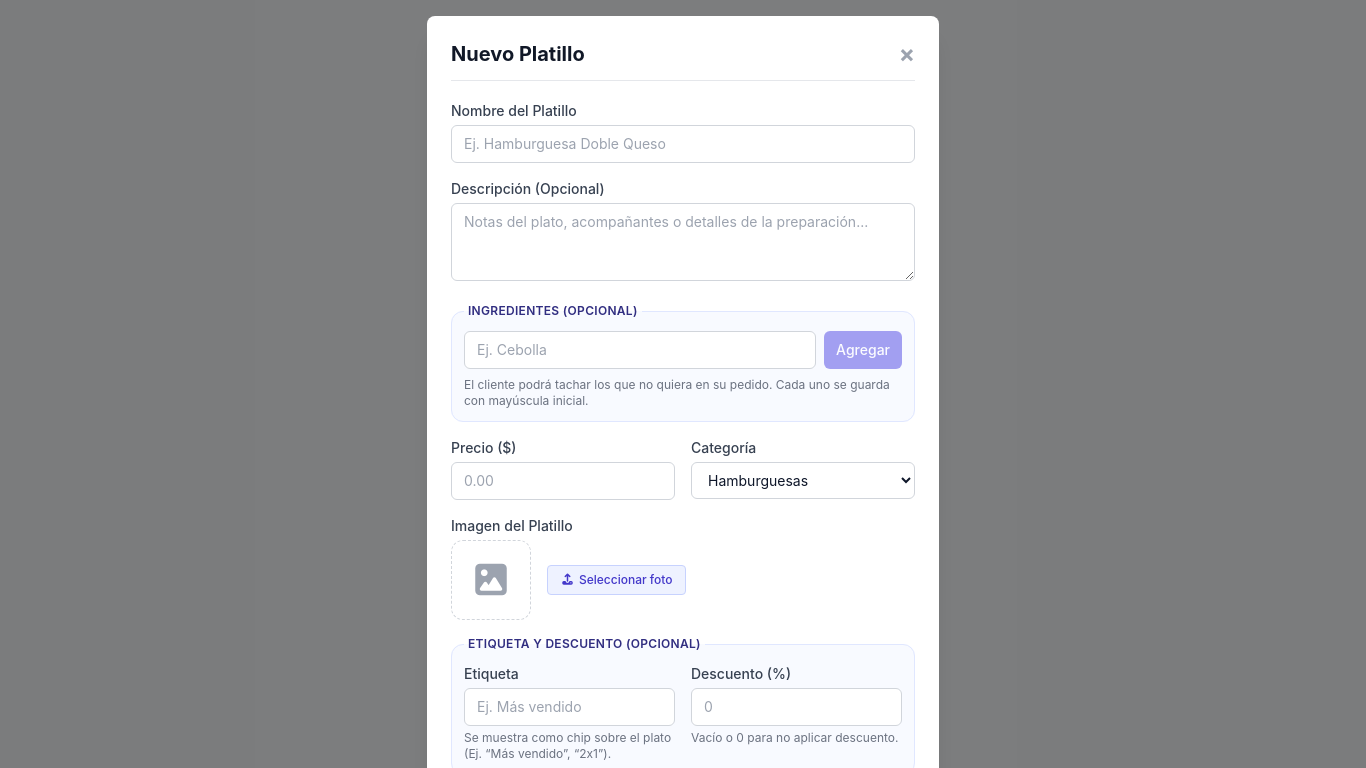
Test case: DishFormModal › rechaza un descuento fuera del rango permitido
The image size is (1366, 768).
In the field labelled "Nombre del Platillo": point(683, 144) left=451, top=125, right=915, bottom=163, type "Combo Parejo"
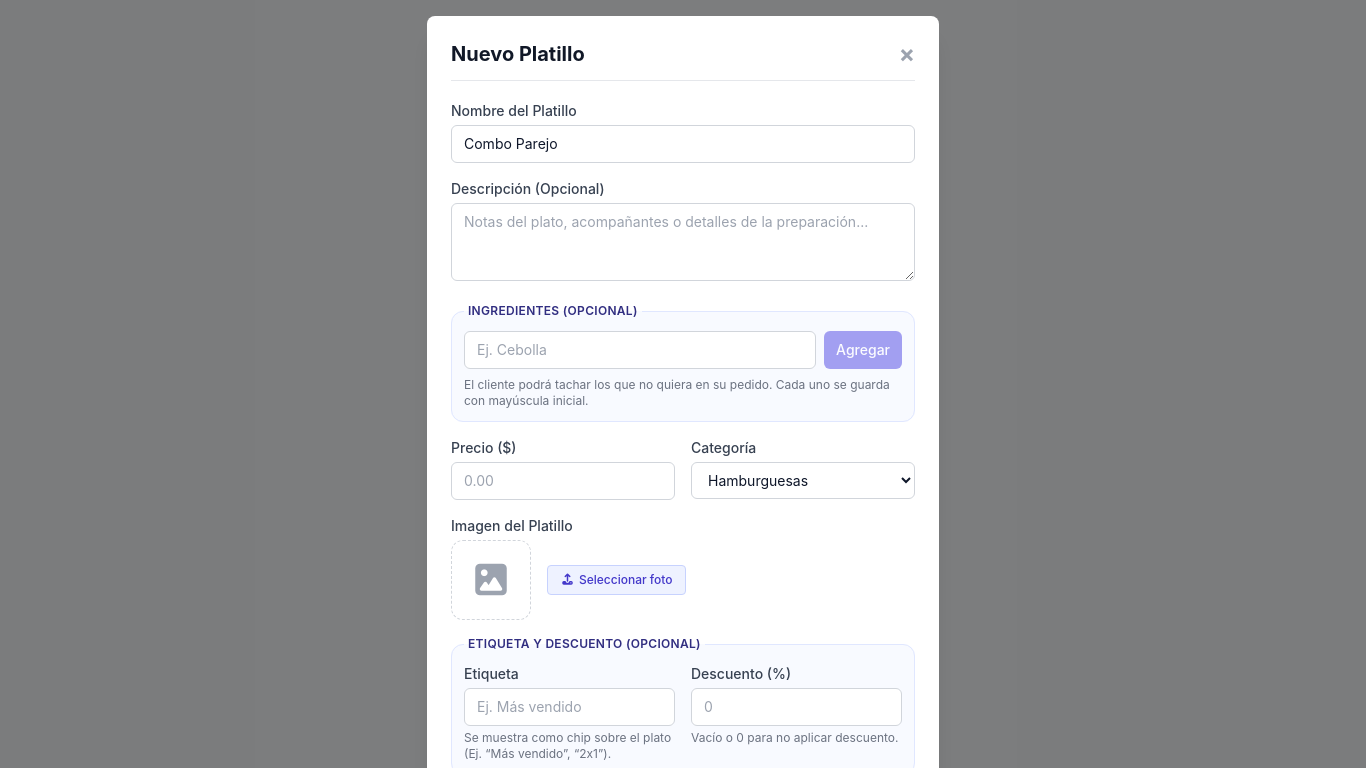
In the number field labelled "Precio ($)": point(563, 481) left=451, top=462, right=675, bottom=500, type "12.00"
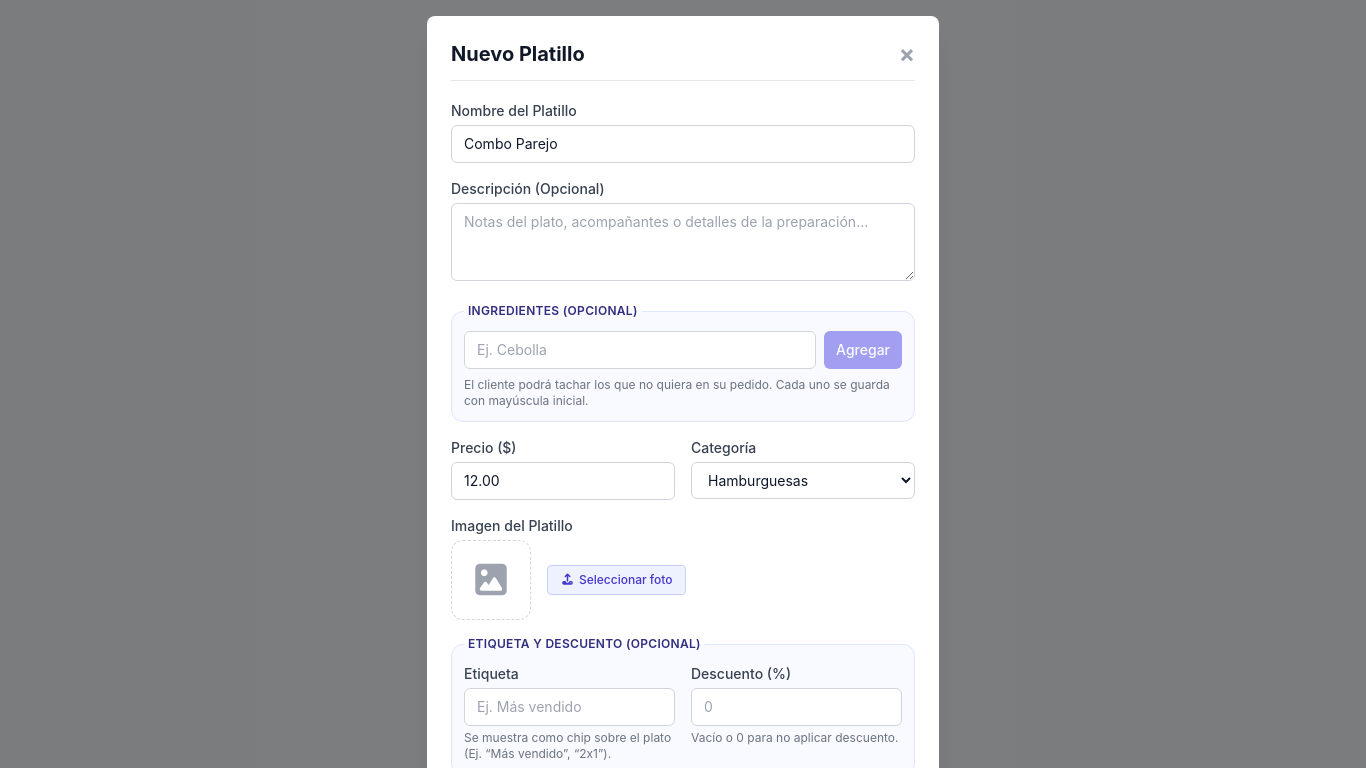
Select "Hamburguesas" in the dropdown labelled "Categoría": point(803, 480) left=691, top=462, right=915, bottom=499
In the number field labelled "Descuento (%)": point(796, 707) left=691, top=688, right=902, bottom=726, type "250"
(page scrolled)
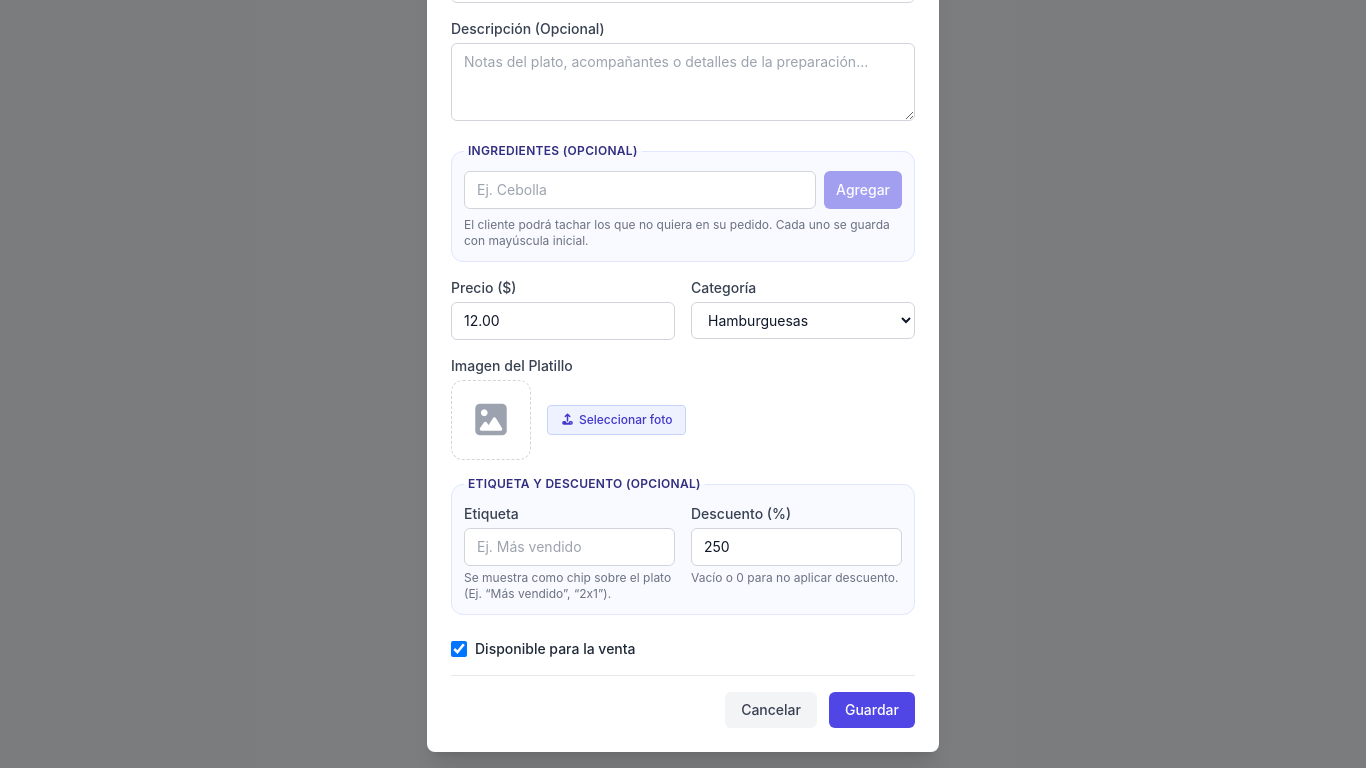
Click the button "Guardar": point(872, 710) left=829, top=692, right=915, bottom=728
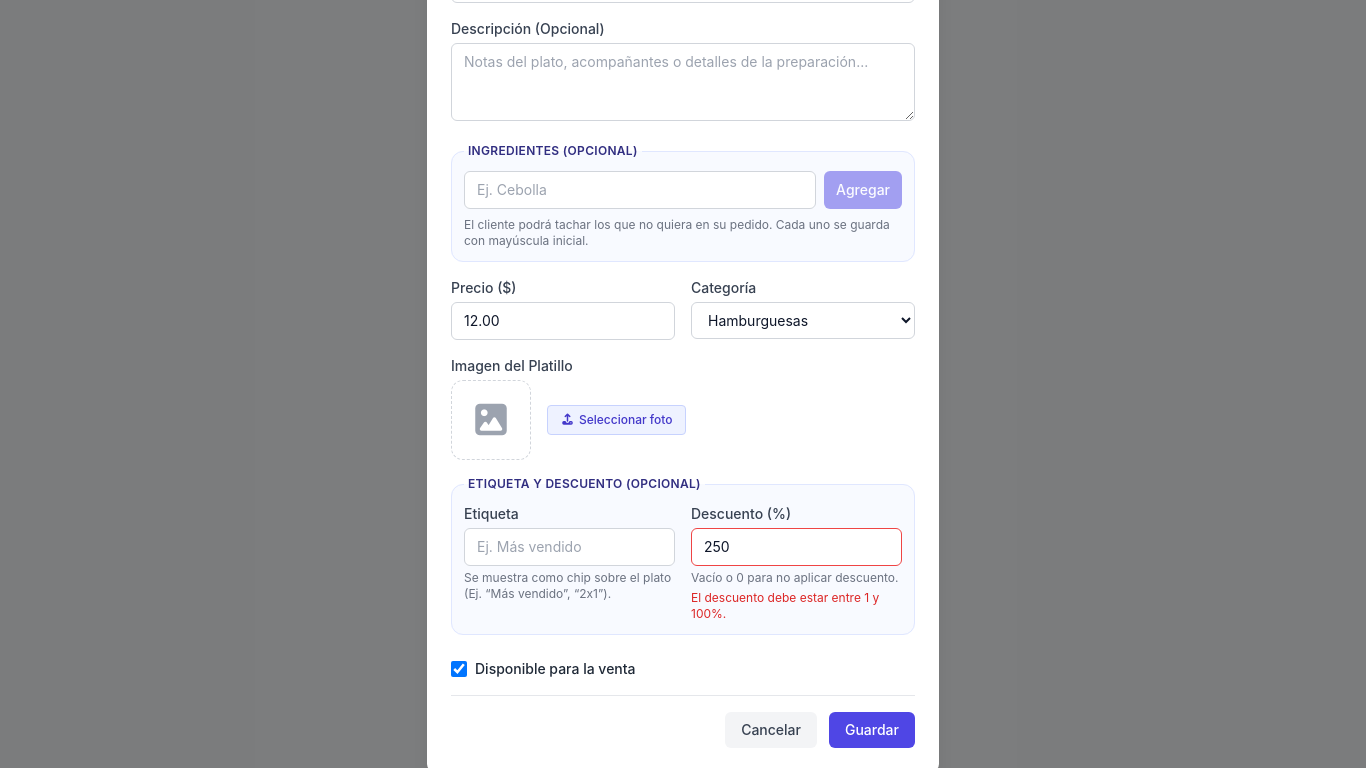
Expected: the text "El descuento debe estar entre 1 y 100%." is shown, left=691, top=590, right=902, bottom=622
